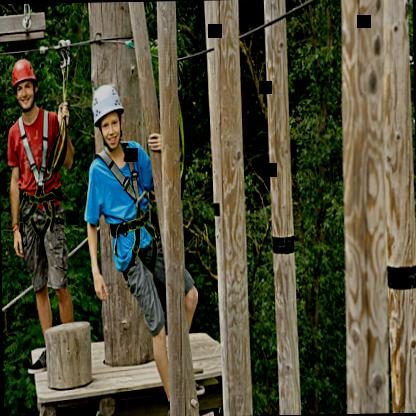helmet: (89, 75, 130, 157), (7, 54, 42, 111)
